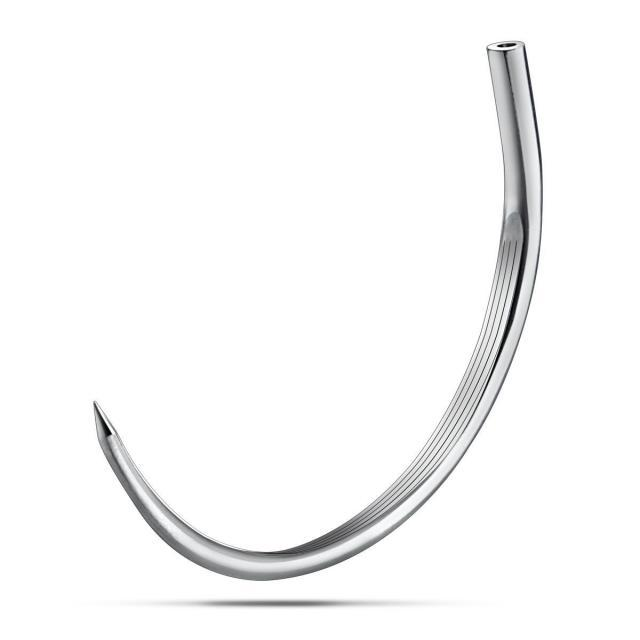Needle: (91, 37, 550, 584)
